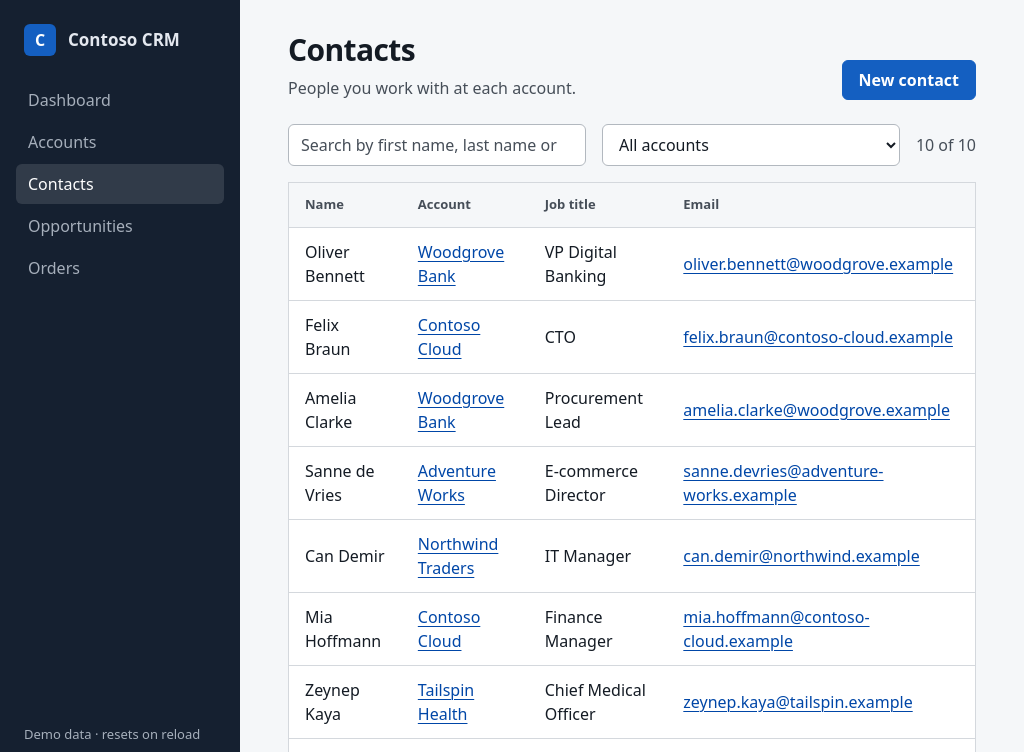
Scenario: Contacts › lists every account alphabetically, including an account without contacts
The width and height of the screenshot is (1024, 752).
In the search field named "Search contacts": (437, 145) [288, 124, 586, 166], type "fabrikam"
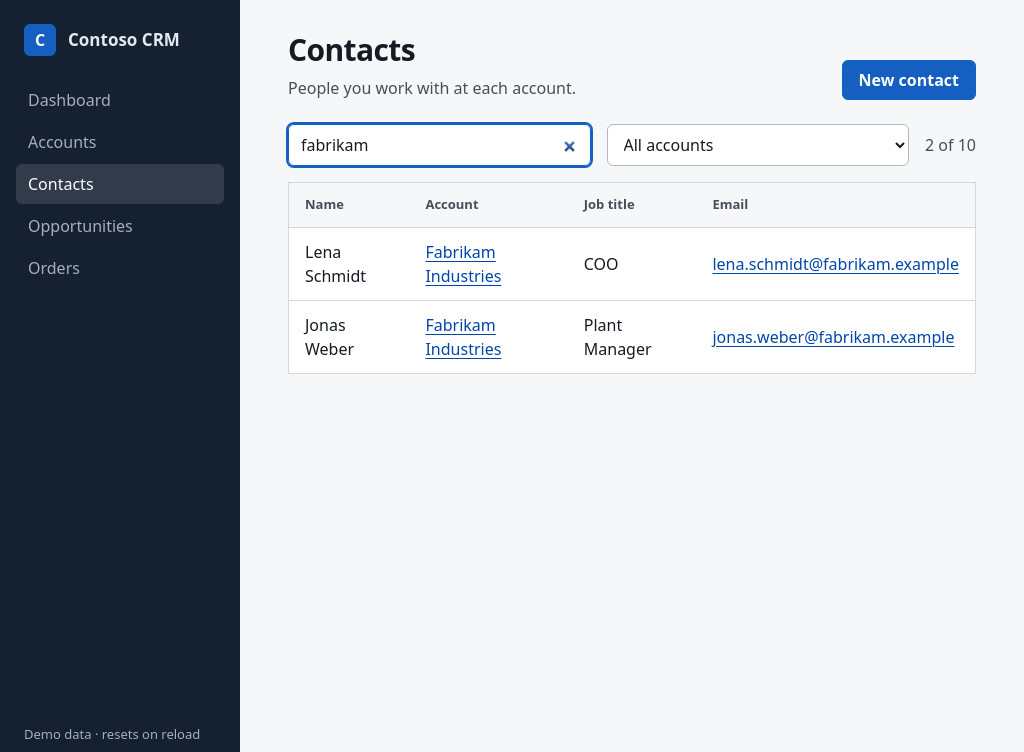
Clear the search field named "Search contacts": (439, 145) [288, 124, 590, 166]
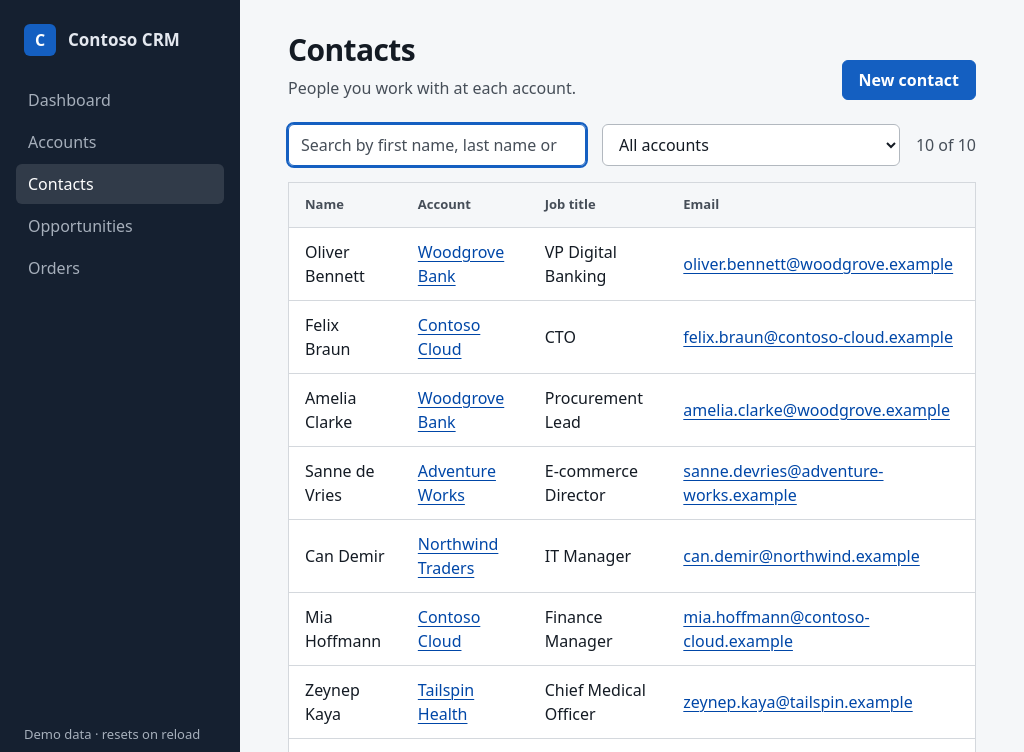
Select "Litware Labs" in the dropdown named "Account": (751, 145) [602, 124, 900, 166]
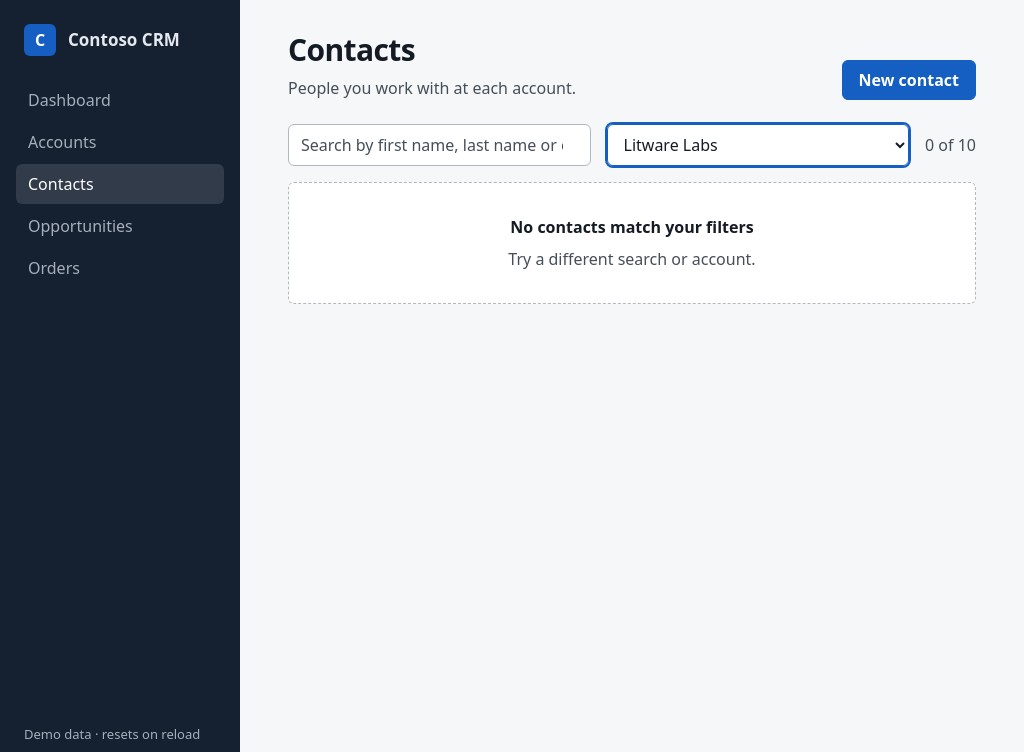
expect the text "0 of 10" is shown: met, box [925, 133, 976, 157]
expect the text "No contacts match your filters" is shown: met, box [510, 216, 754, 238]
